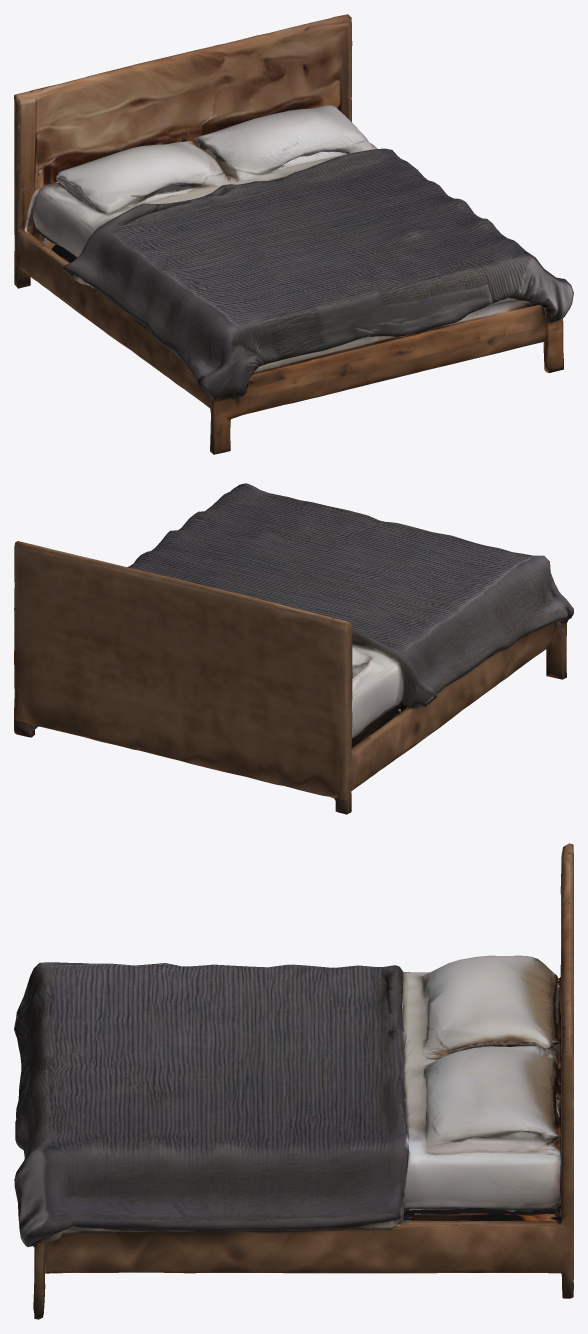
The model's file is Meshy_AI_cama3d_0323112513_texture.glb.
The picture shows the model from 3 angles, top to bottom: view 1: azimuth 30°, elevation 25°; view 2: azimuth 150°, elevation 25°; view 3: azimuth 270°, elevation 25°; orthographic projection. The views are drawn at different scales.
Size of the model in its own units: 1.98 by 1.05 by 2.01.
1 material, 1 textured.
